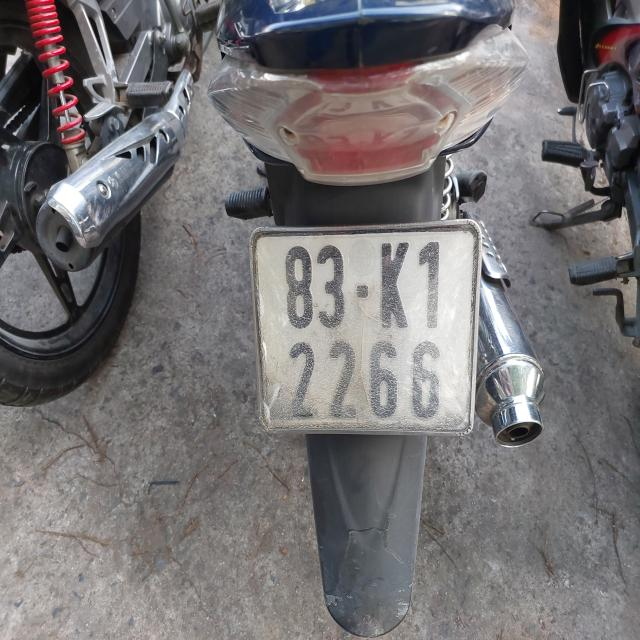1: (416, 238, 440, 330)
2: (328, 340, 357, 424), (287, 342, 316, 422)
3: (318, 243, 344, 332)
6: (370, 334, 400, 424), (410, 336, 437, 418)
8: (283, 242, 315, 332)
K: (379, 238, 410, 331)
